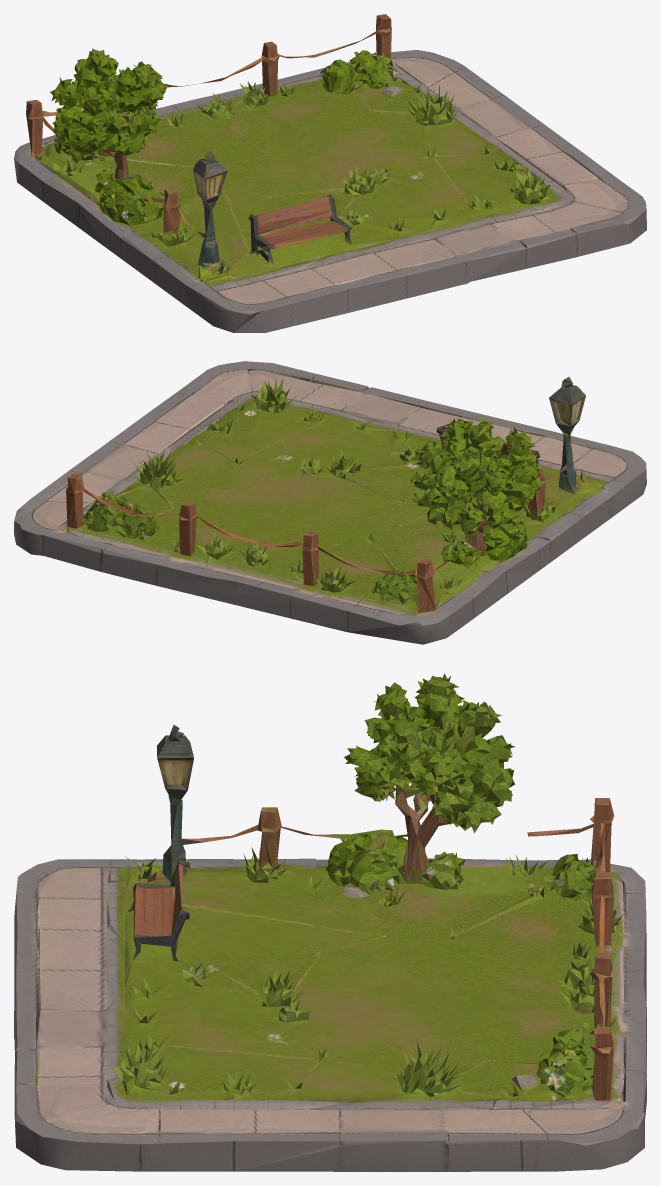
The model's file is level-0-source.glb.
The picture shows the model from 3 angles, top to bottom: view 1: azimuth 30°, elevation 25°; view 2: azimuth 150°, elevation 25°; view 3: azimuth 270°, elevation 25°; orthographic projection. The views are drawn at different scales.
Parts seen in each view (by area): view 1: Mesh_0; view 2: Mesh_0; view 3: Mesh_0.
Part boxes in pixels (x1,y1,x2,y2): Mesh_0: (14,14,646,332); Mesh_0: (14,361,646,644); Mesh_0: (14,673,646,1171).
Size of the model in its own units: 1.9 by 0.667 by 1.69.
Materials: 1 (1 with a texture image).
